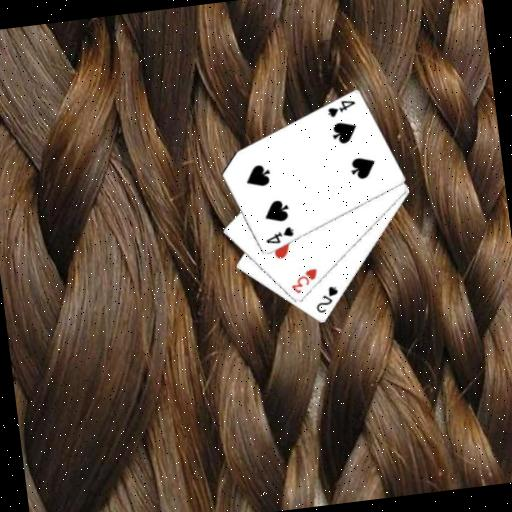2S: (311, 283, 342, 316)
3H: (287, 265, 322, 296)
4S: (261, 223, 297, 247), (323, 96, 359, 120)
